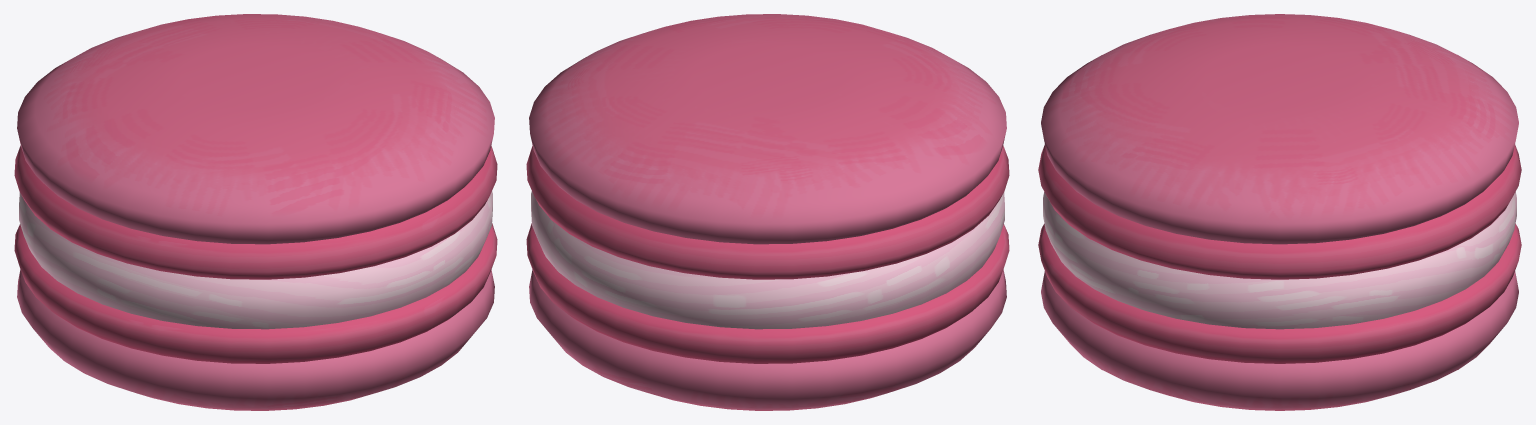
File: MacaroonNew(1).fbx
The picture shows the model from 3 angles, left to right: view 1: azimuth 30°, elevation 25°; view 2: azimuth 150°, elevation 25°; view 3: azimuth 270°, elevation 25°; orthographic projection.
Parts seen in each view (by area): view 1: Macaroon; view 2: Macaroon; view 3: Macaroon.
Part boxes in pixels (box(x1,y1,x2,y2)): Macaroon: box(14, 14, 497, 410); Macaroon: box(526, 14, 1009, 410); Macaroon: box(1038, 14, 1521, 410).
Size of the model in its own units: 342 by 211 by 342.
